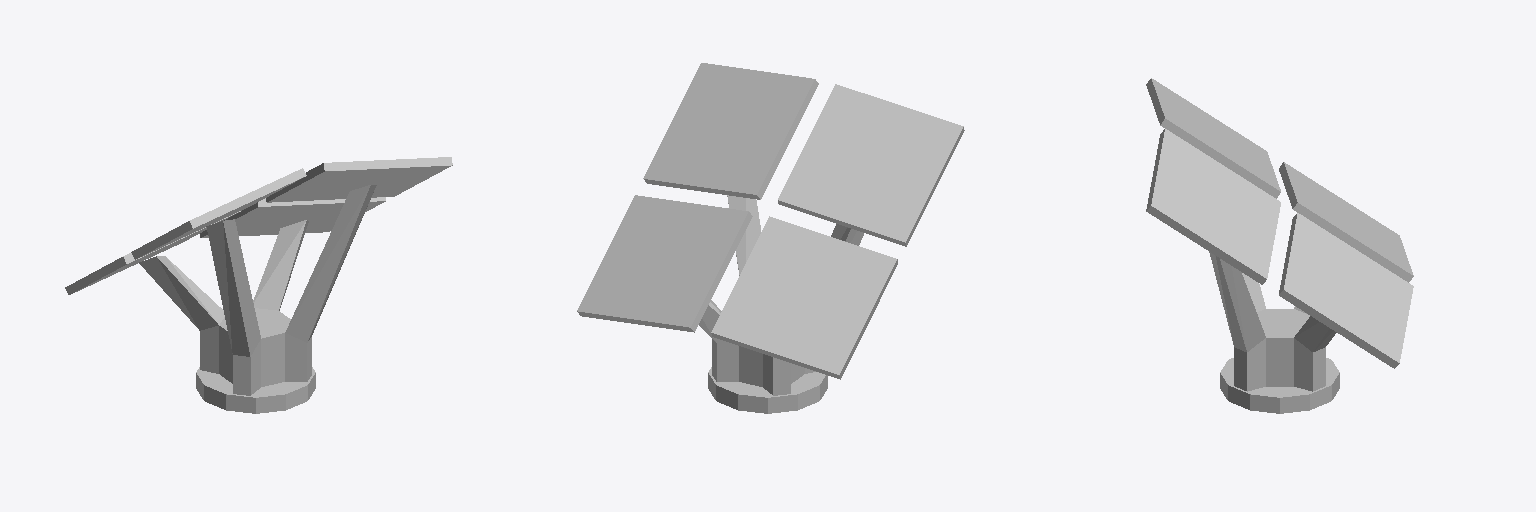
The model's file is Sun panel.obj.
3 renders of one model, left to right at view 1: azimuth 30°, elevation 25°; view 2: azimuth 150°, elevation 25°; view 3: azimuth 270°, elevation 25°, orthographic.
Visible parts, largest first — view 1: pCube27; view 2: pCube27; view 3: pCube27.
Part boxes in pixels (bbox=[...]): pCube27: bbox=[65, 157, 452, 413]; pCube27: bbox=[577, 63, 964, 413]; pCube27: bbox=[1146, 78, 1413, 413].
Bounding box in the file's own units: 12.73 × 12.3 × 11.25.